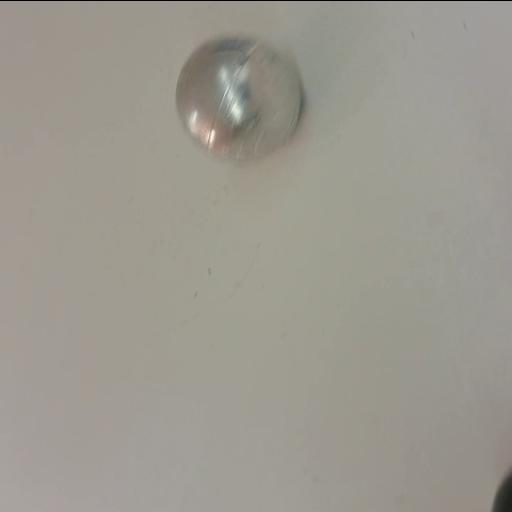alive: (170, 30, 308, 166)
